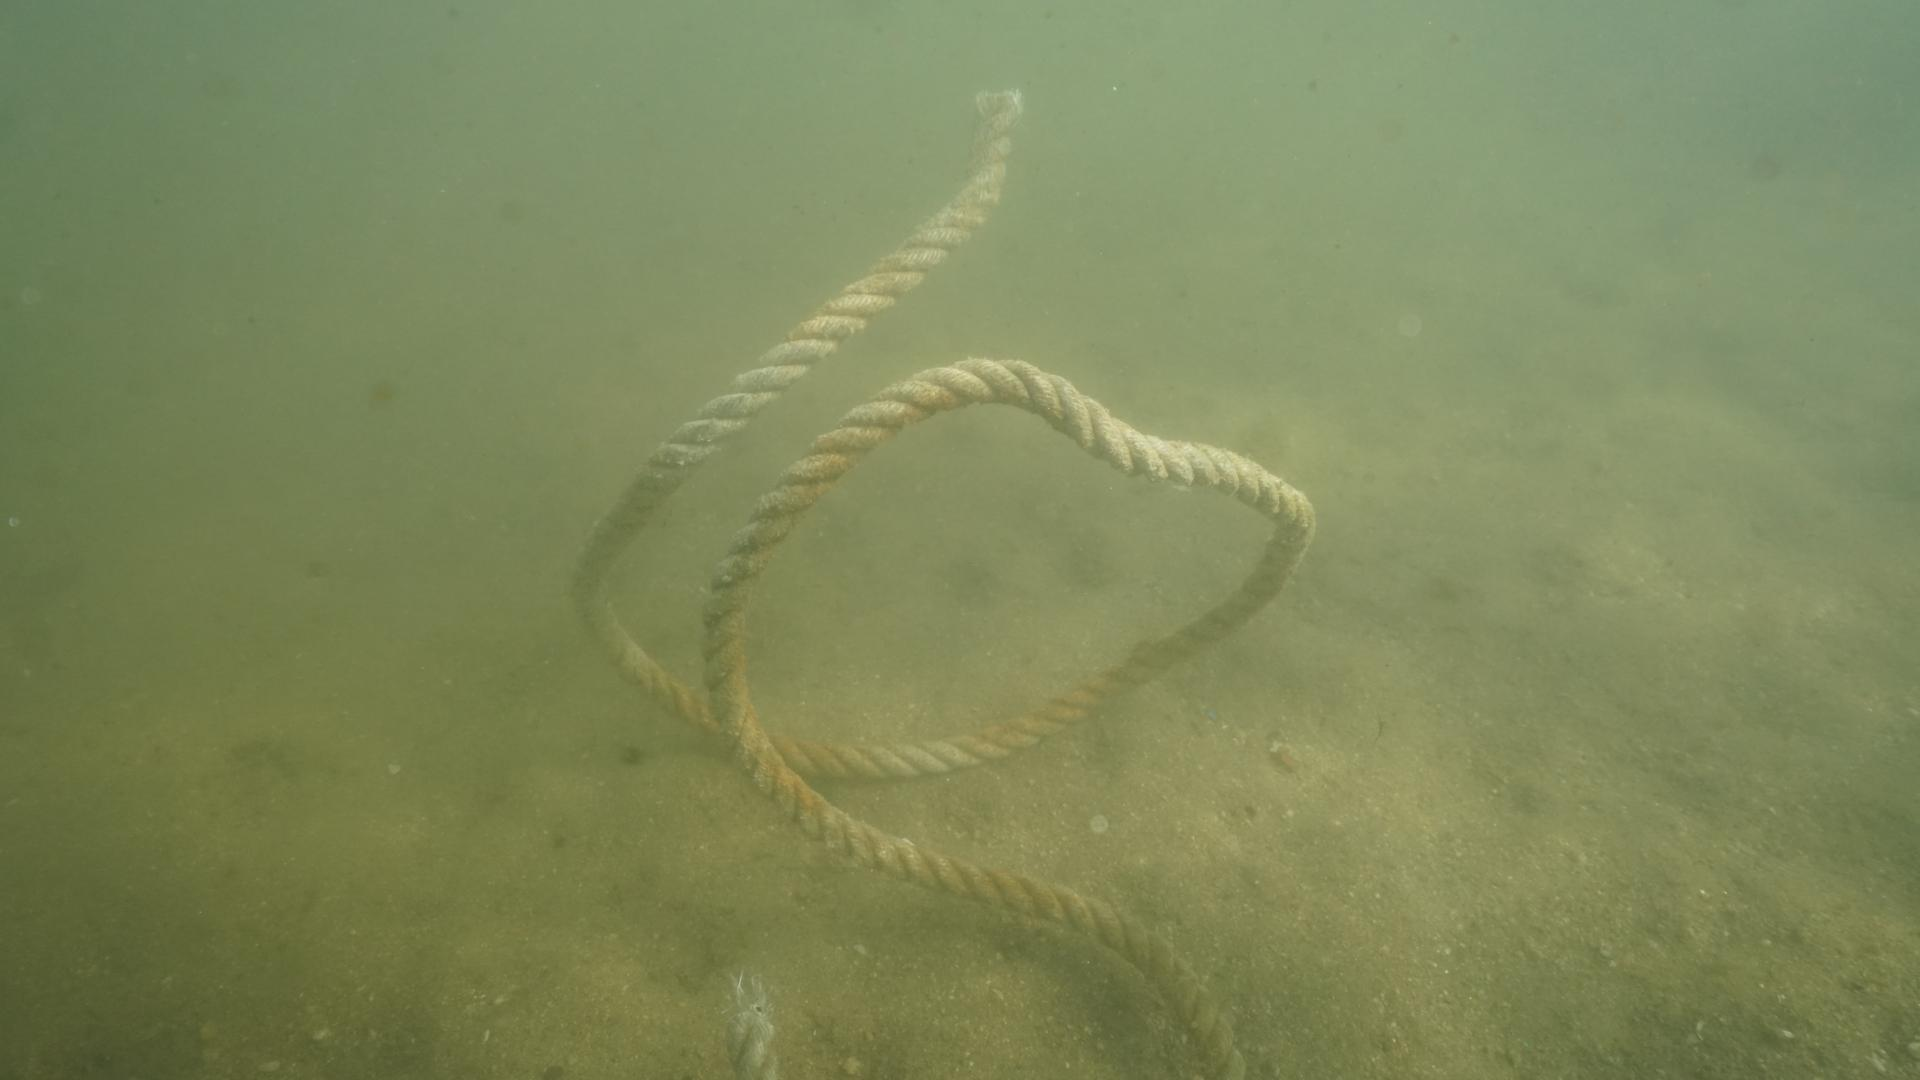rope: (568, 80, 1328, 1080)
